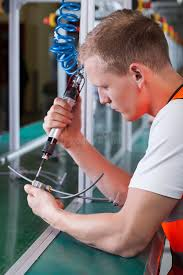Screwdriver: (35, 128, 61, 179), (62, 71, 83, 107), (35, 182, 42, 187)
